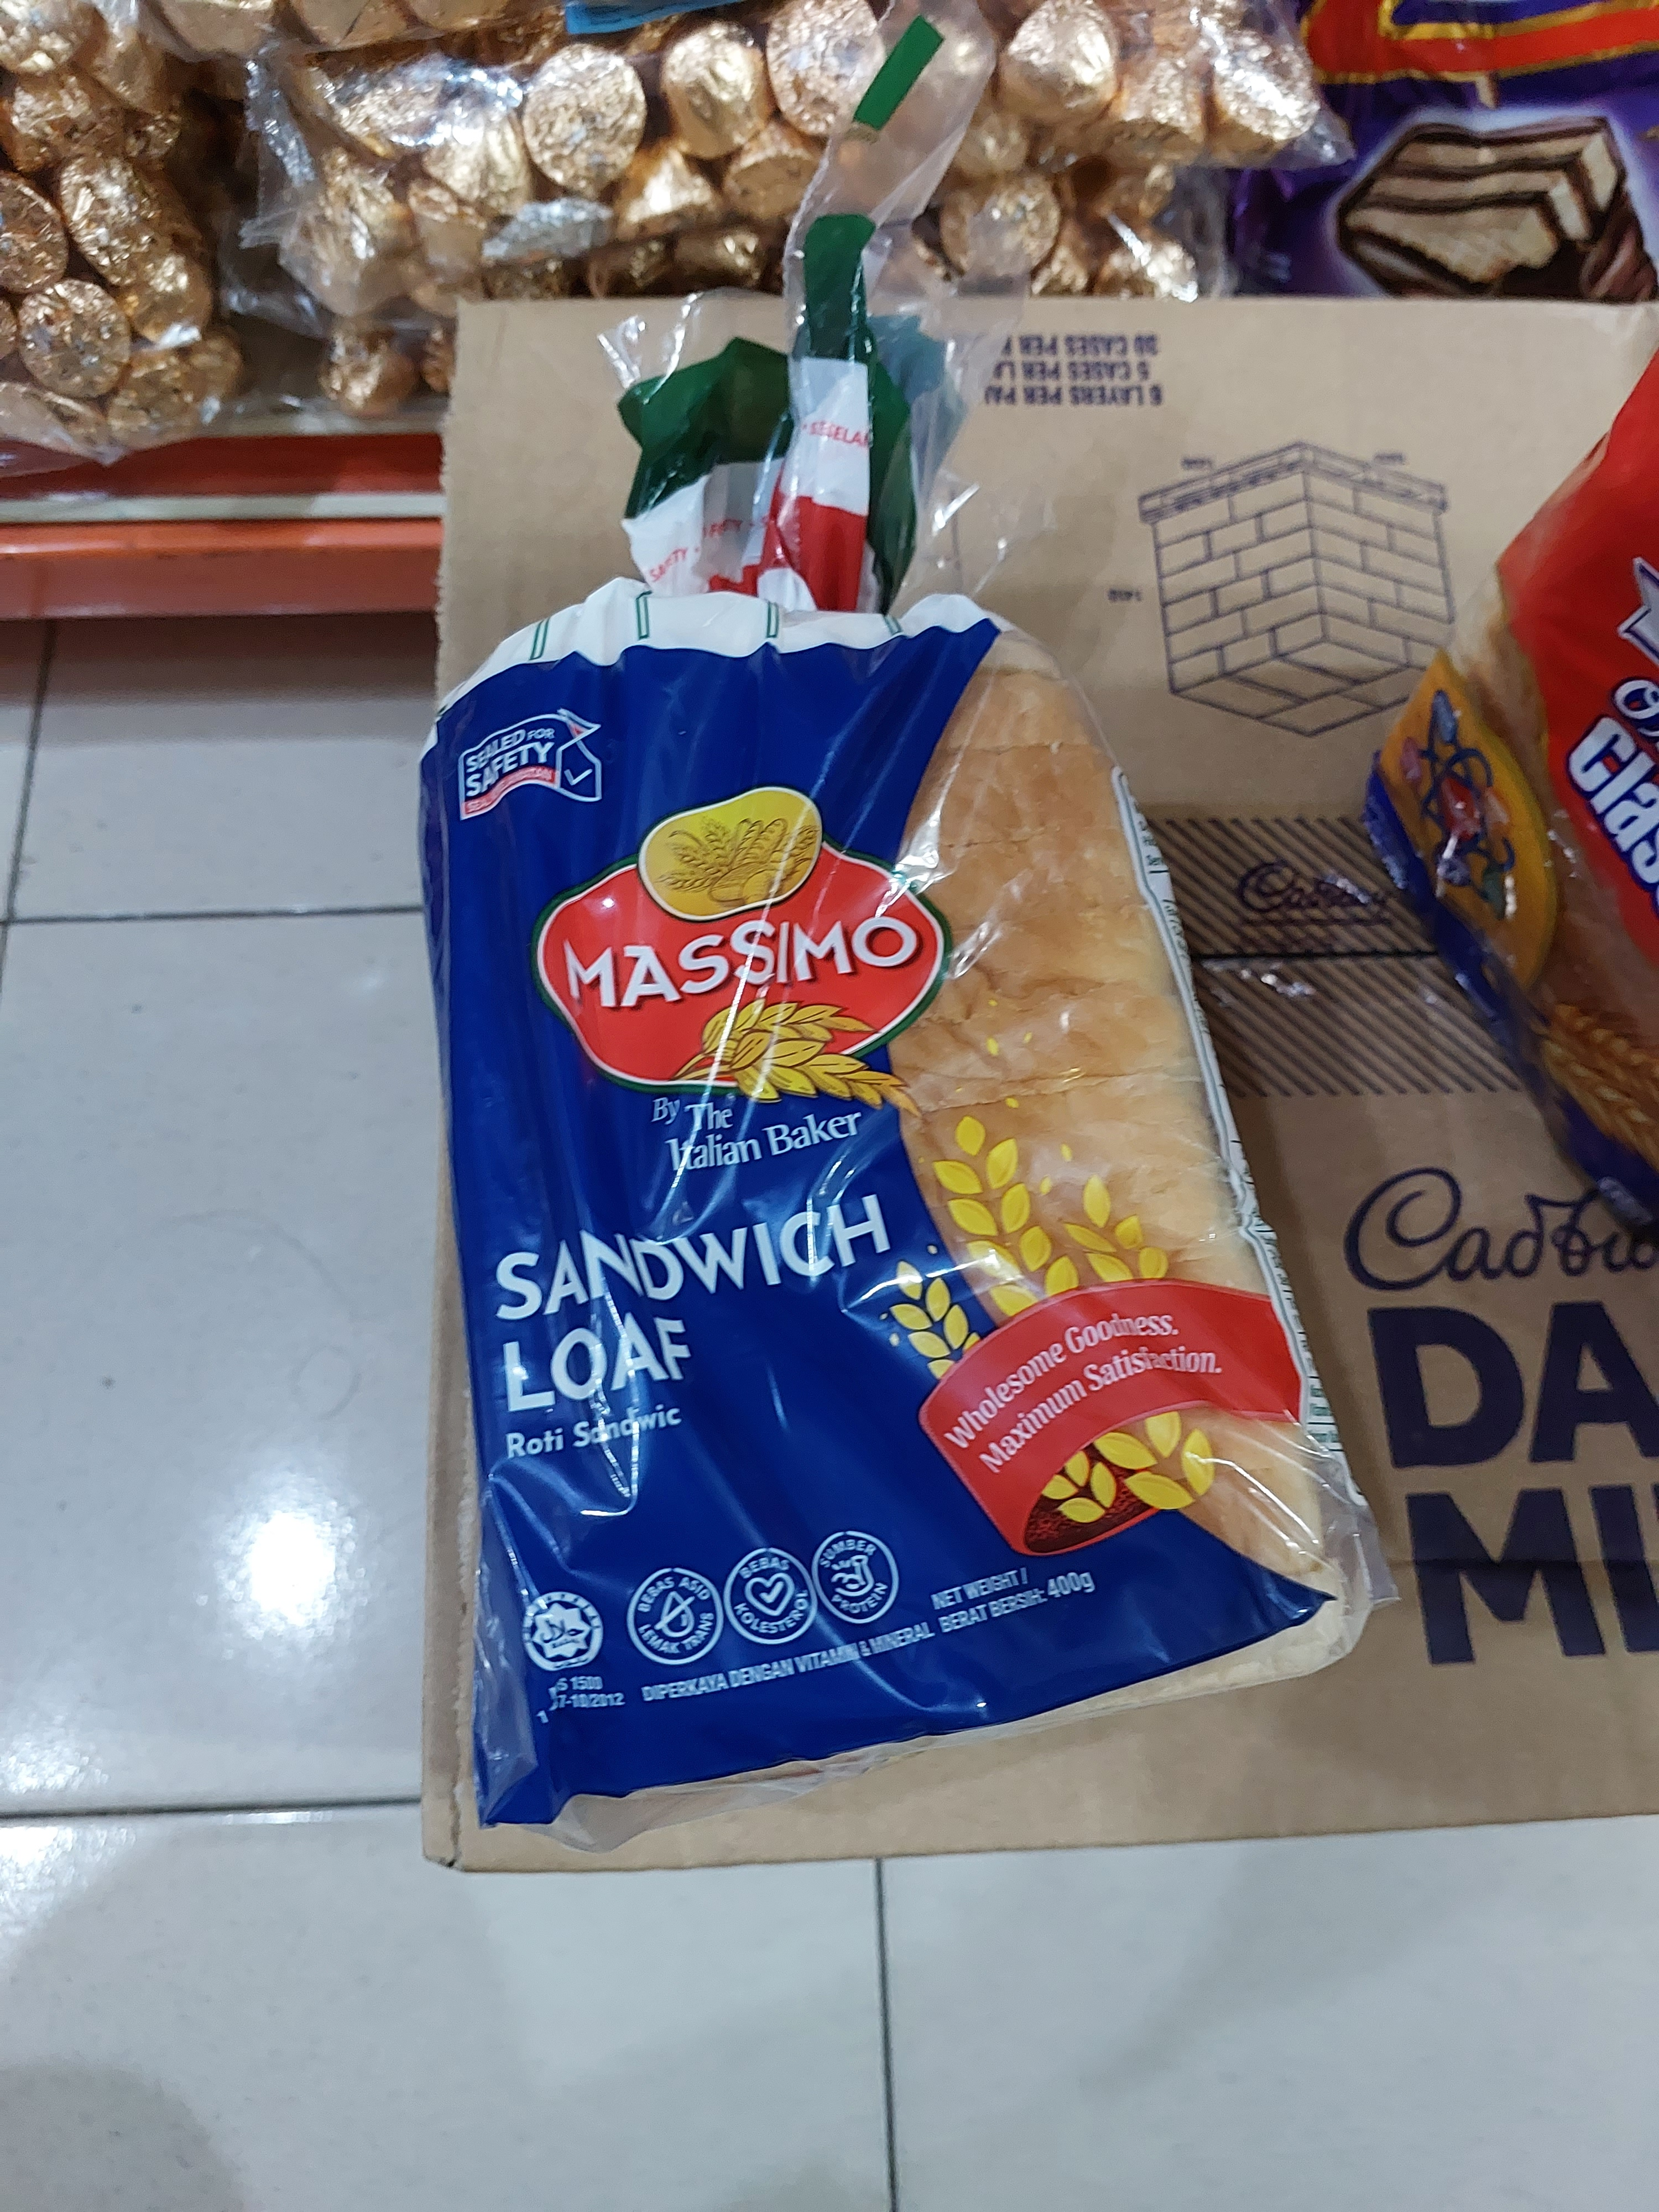bread: (420, 347, 1387, 1834)
